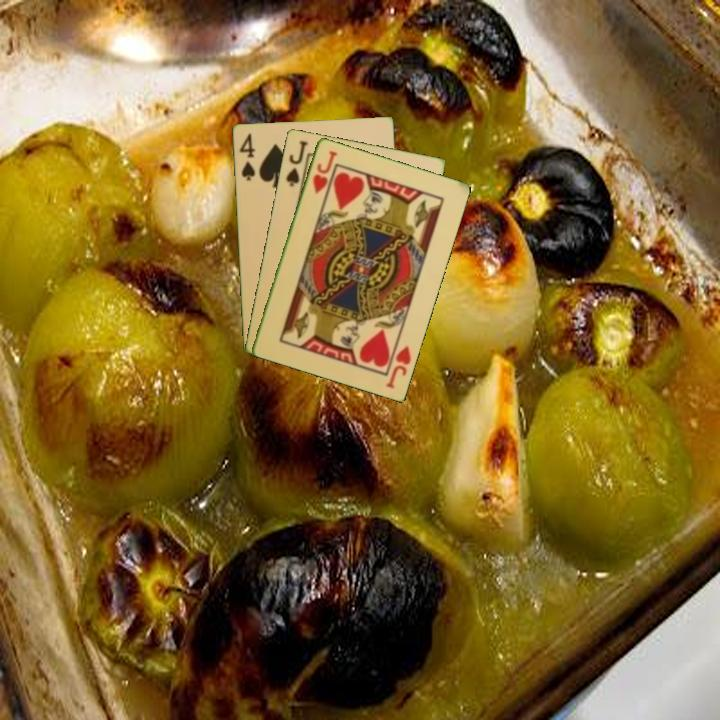4s: (236, 129, 258, 183)
Jh: (382, 341, 414, 391), (309, 147, 340, 197)
Js: (282, 137, 311, 189)
